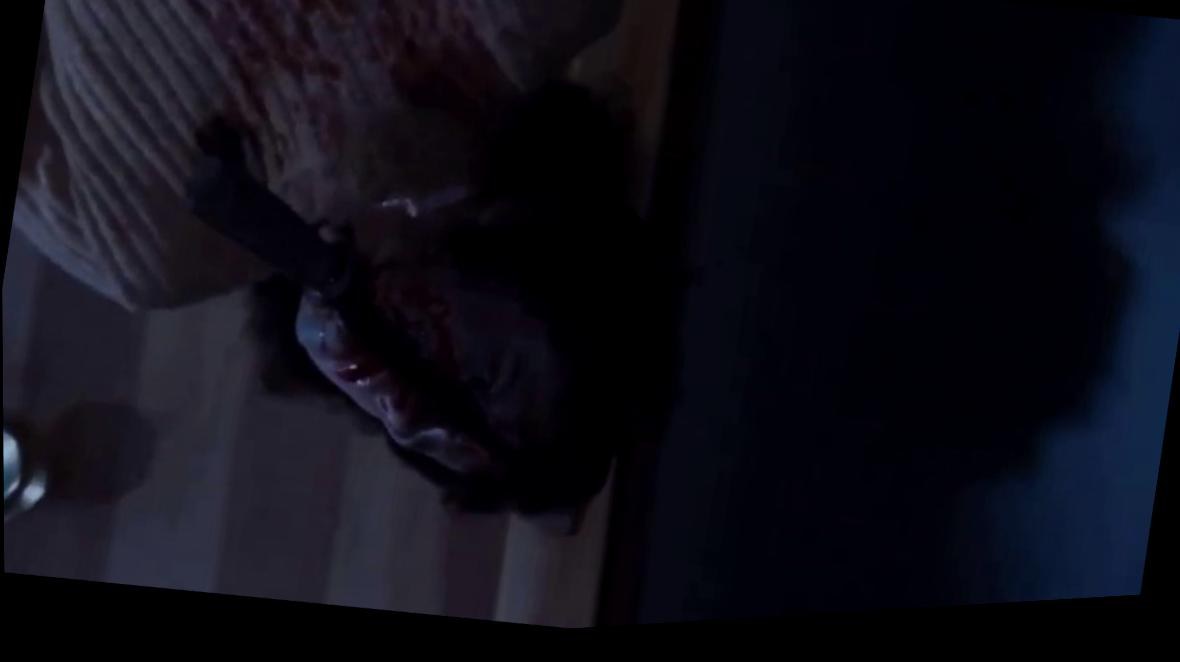Fire: (138, 0, 494, 220), (293, 205, 568, 482)
